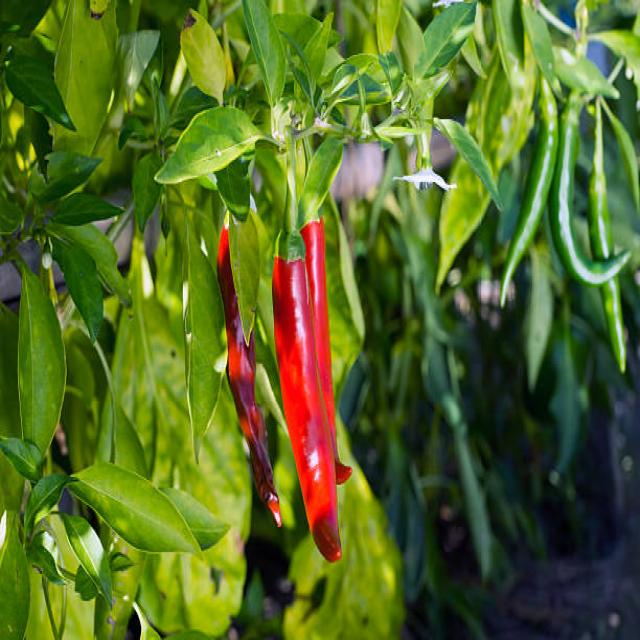Ripe: (273, 256, 340, 560), (218, 227, 278, 525), (302, 216, 350, 483)
